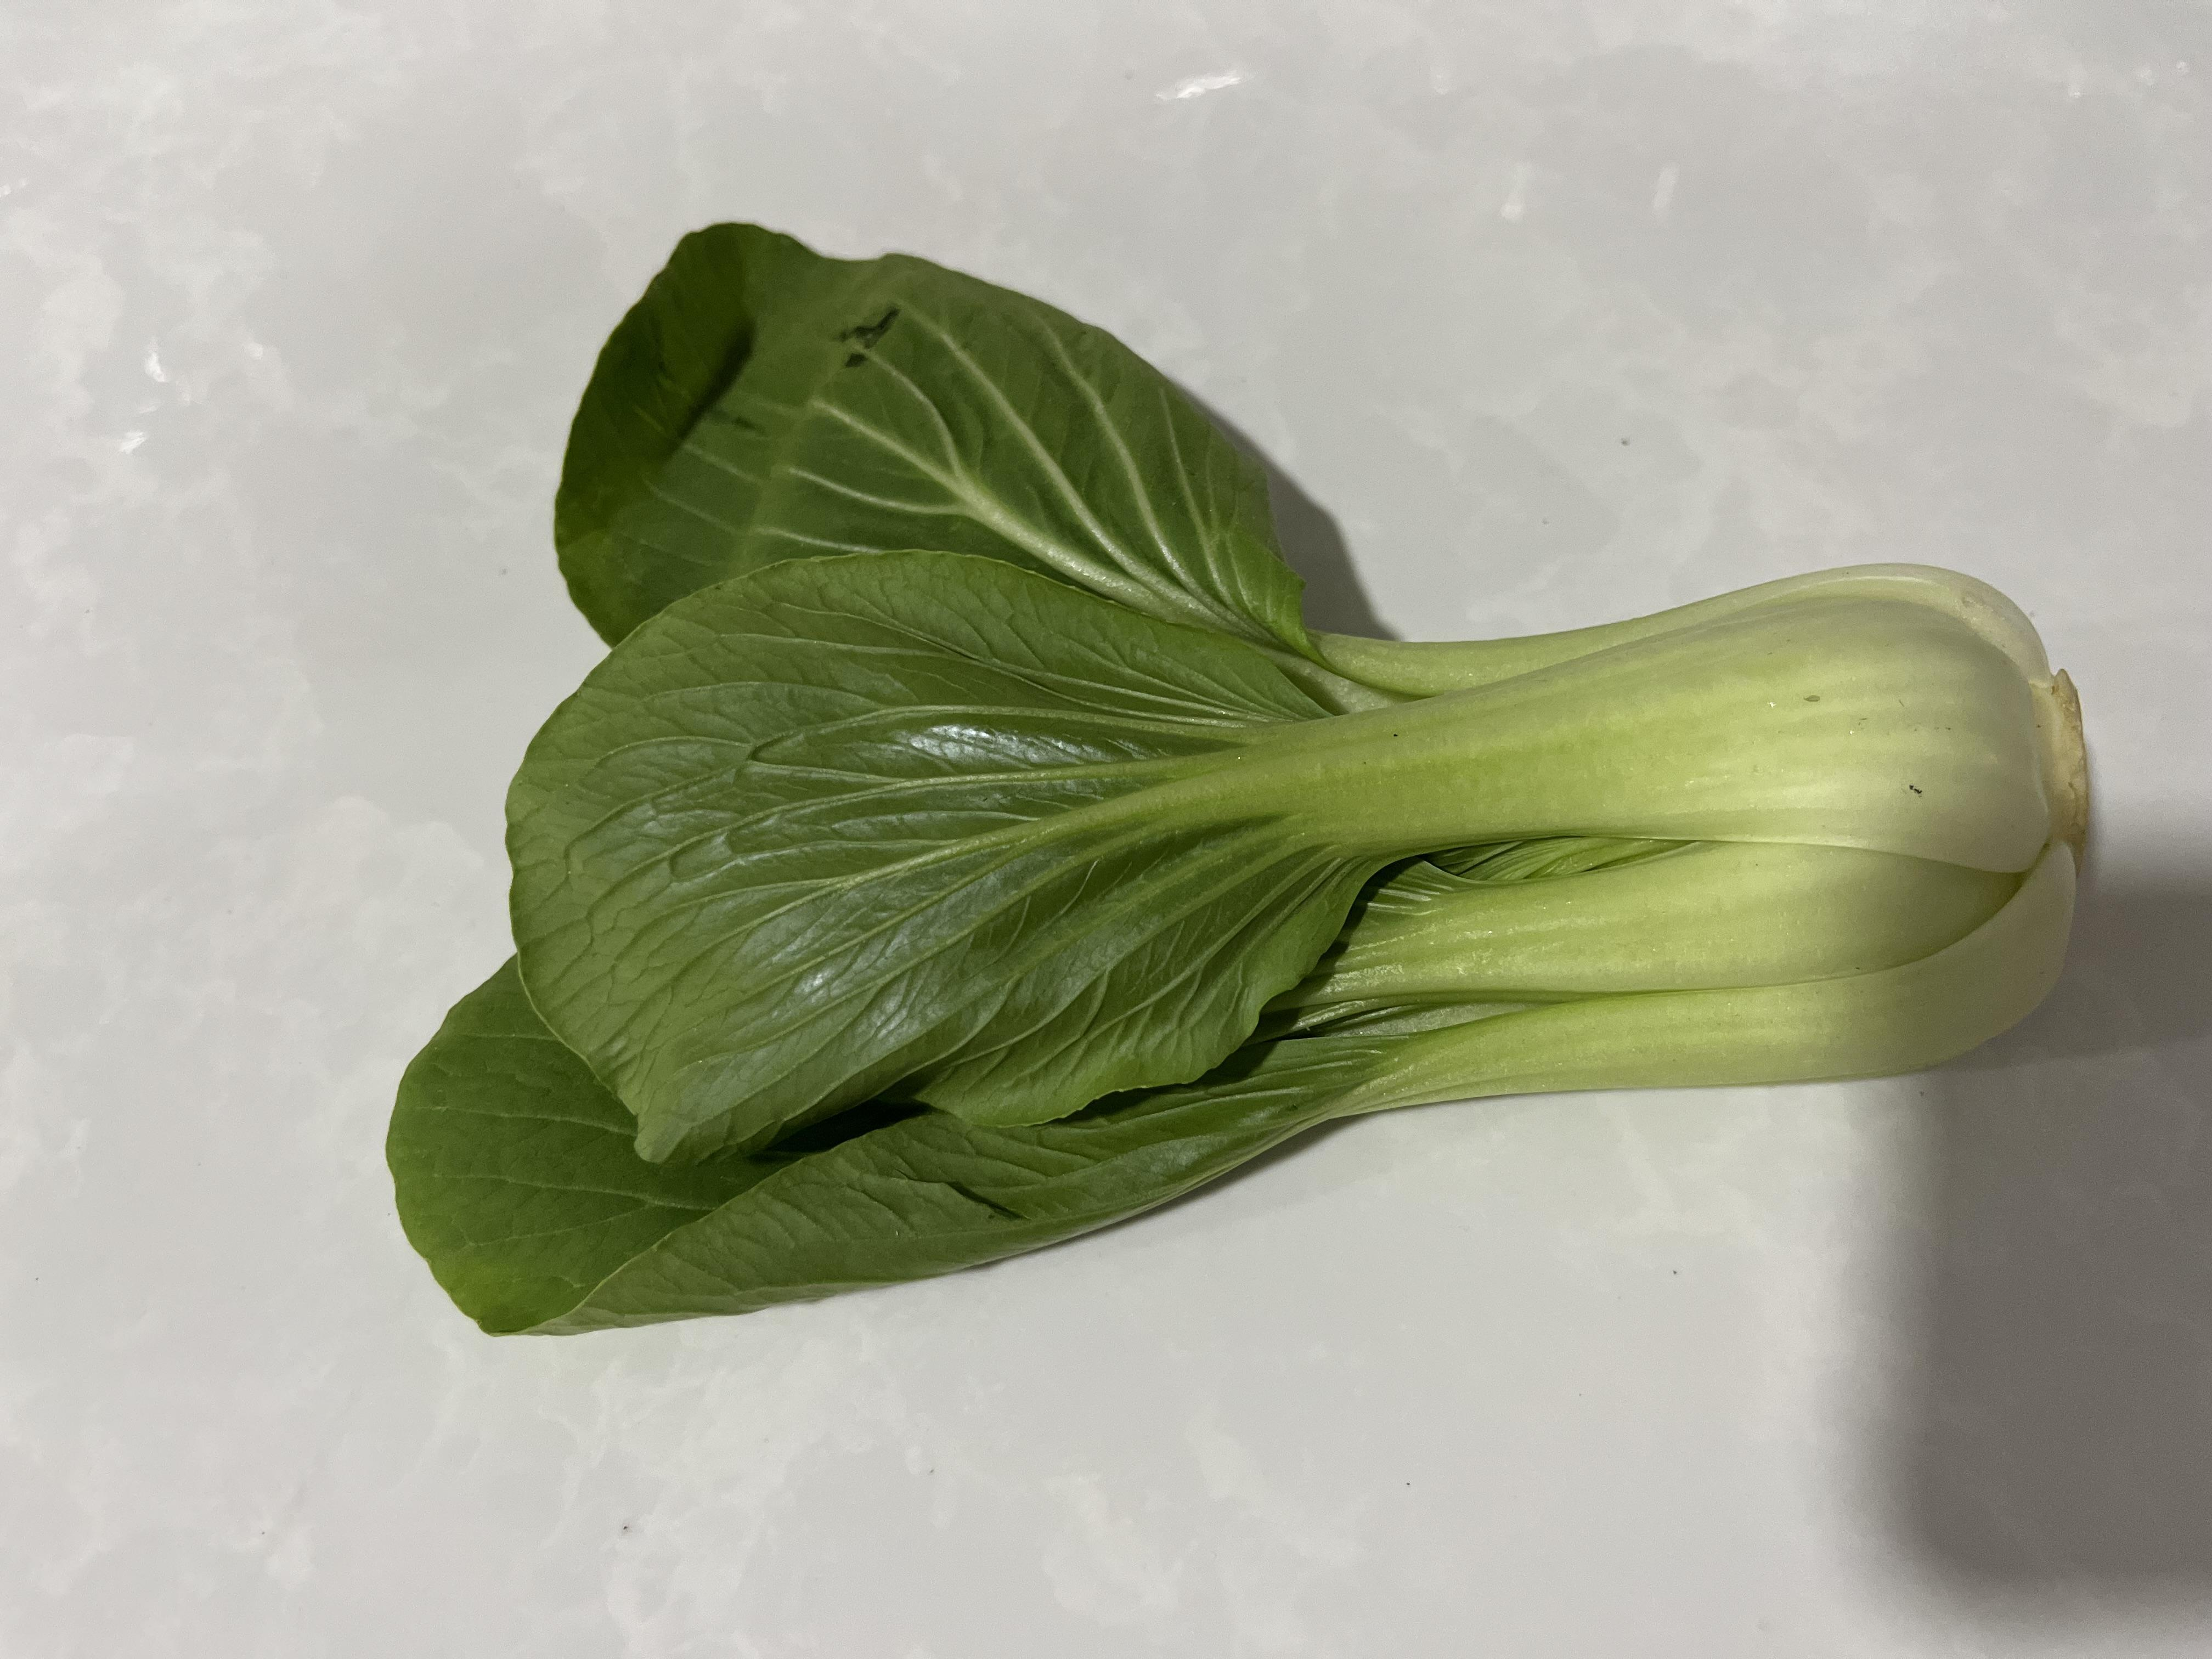Healthy-Pechay: (357, 230, 2184, 1394)
